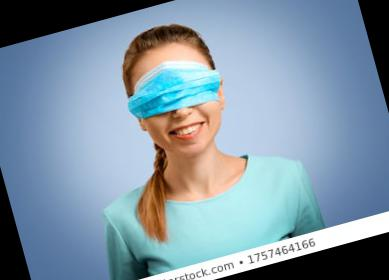mask_weared_incorrect: (128, 45, 239, 163)
